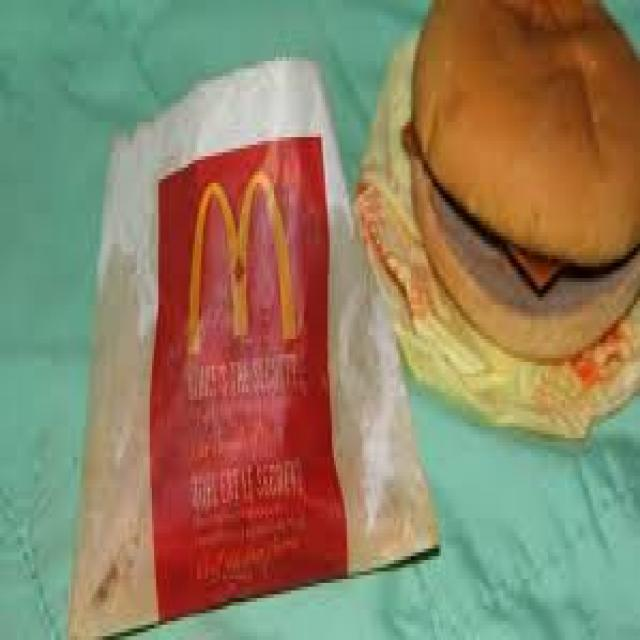Burger: (400, 0, 640, 397)
French Fries: (84, 95, 402, 575)
